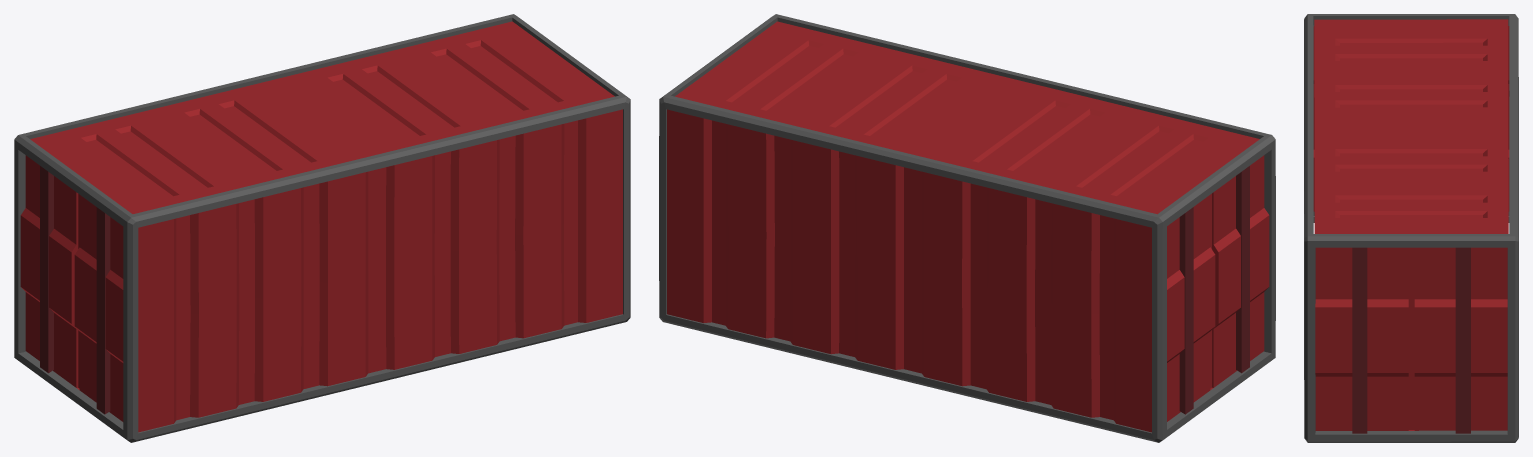
The model's file is container_red.glb.
3 renders of one model, left to right at view 1: azimuth 30°, elevation 25°; view 2: azimuth 150°, elevation 25°; view 3: azimuth 270°, elevation 25°, orthographic. The views are drawn at different scales.
Visible parts, largest first — view 1: container_red; view 2: container_red; view 3: container_red.
Part boxes in pixels (<box>): container_red: <box>14,14,630,442</box>; container_red: <box>659,14,1275,442</box>; container_red: <box>1304,14,1518,442</box>.
Bounding box in the file's own units: 6.06 × 2.59 × 2.44.
Materials: 1 (1 with a texture image).
